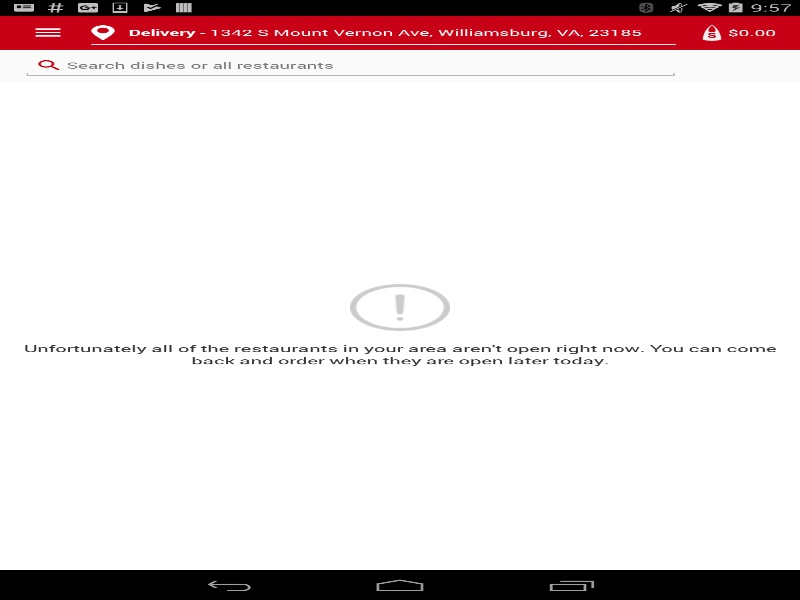Button: (10, 15, 85, 50)
Input: (21, 53, 680, 78), (91, 20, 676, 45)
